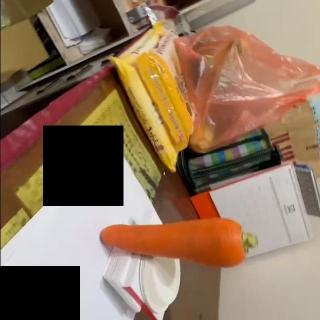carrot: (98, 216, 255, 270)
